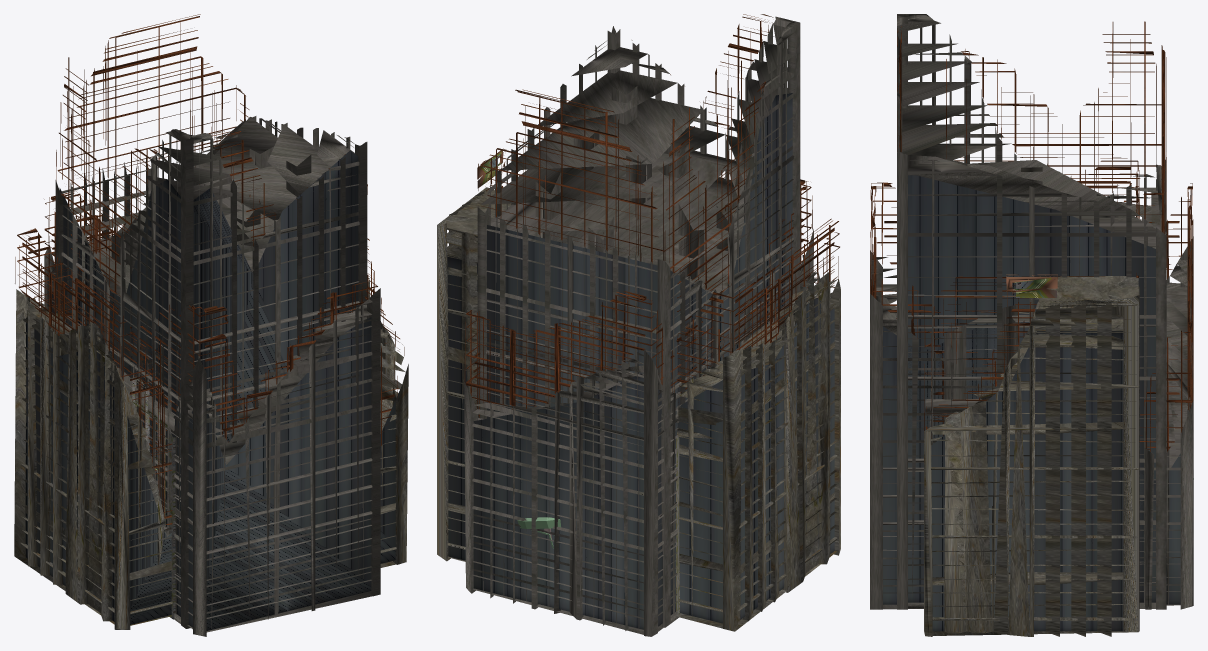
Rendered from outpost-kit.glb.
3 views of the same model, side by side, from view 1: azimuth 30°, elevation 25°; view 2: azimuth 150°, elevation 25°; view 3: azimuth 270°, elevation 25° (orthographic). The views are drawn at different scales.
Parts seen in each view (by area): view 1: Building 07, Building 02, Building 06, Building 01, Building 05; view 2: Building 07, Building 06, Building 02, Building 01, Building 05; view 3: Building 06, Building 07, Building 02, Building 01.
Boxes of the visible parts, bbox=[...] form: Building 07: bbox=[55, 14, 367, 628]; Building 02: bbox=[44, 191, 380, 636]; Building 06: bbox=[14, 184, 408, 629]; Building 01: bbox=[70, 215, 174, 518]; Building 05: bbox=[114, 341, 175, 619]; Building 07: bbox=[477, 14, 800, 627]; Building 06: bbox=[437, 148, 840, 631]; Building 02: bbox=[464, 179, 813, 636]; Building 01: bbox=[676, 205, 784, 422]; Building 05: bbox=[676, 306, 769, 617]; Building 06: bbox=[924, 157, 1139, 636]; Building 07: bbox=[897, 14, 1166, 609]; Building 02: bbox=[870, 182, 1193, 609]; Building 01: bbox=[924, 183, 1139, 437].
Size of the model in its own units: 32 by 52.54 by 30.02.
11 materials, 10 textured.
